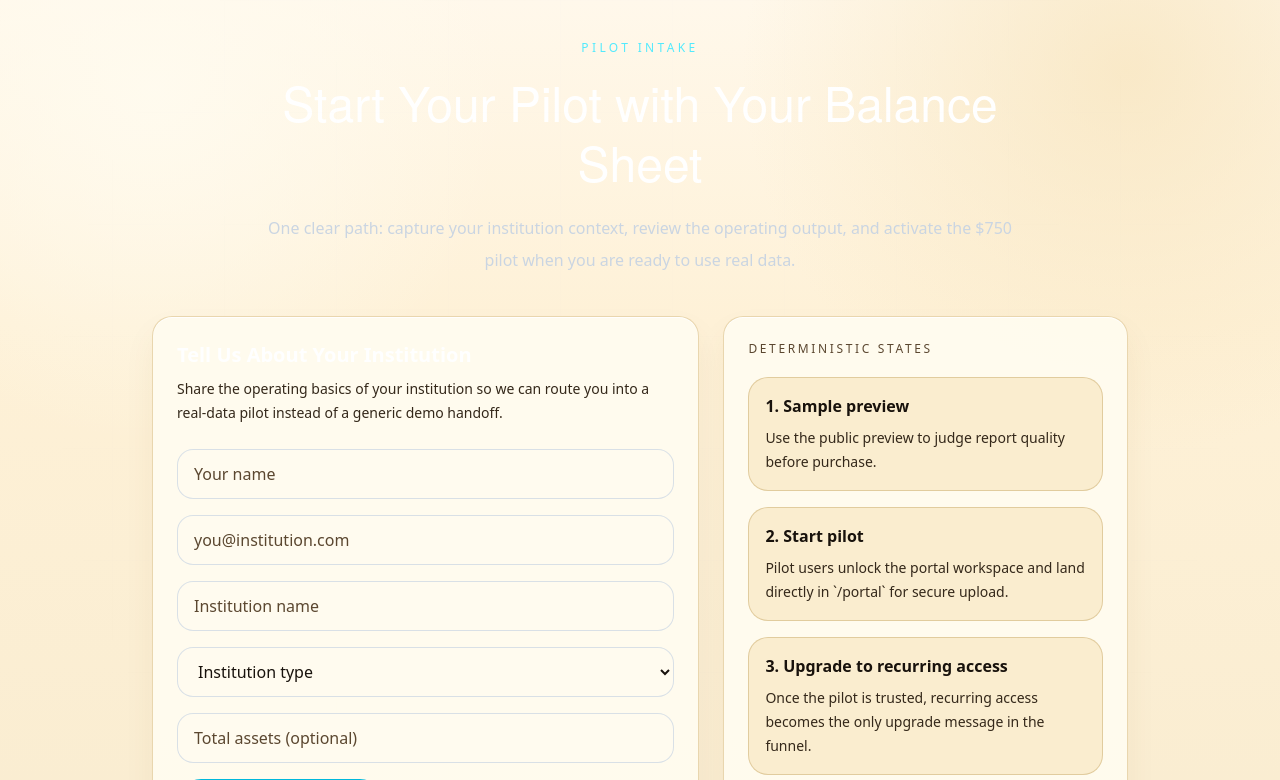
it: GetStartedPage › captures guest intake and shows preview + paid unlock state
Expected: the heading "Start Your Pilot with Your Balance Sheet" is shown, x1=256 y1=72 x2=1024 y2=192
Type "Maria" into the field with placeholder "Your name" at point(426, 474), box x1=177 y1=449 x2=674 y2=499
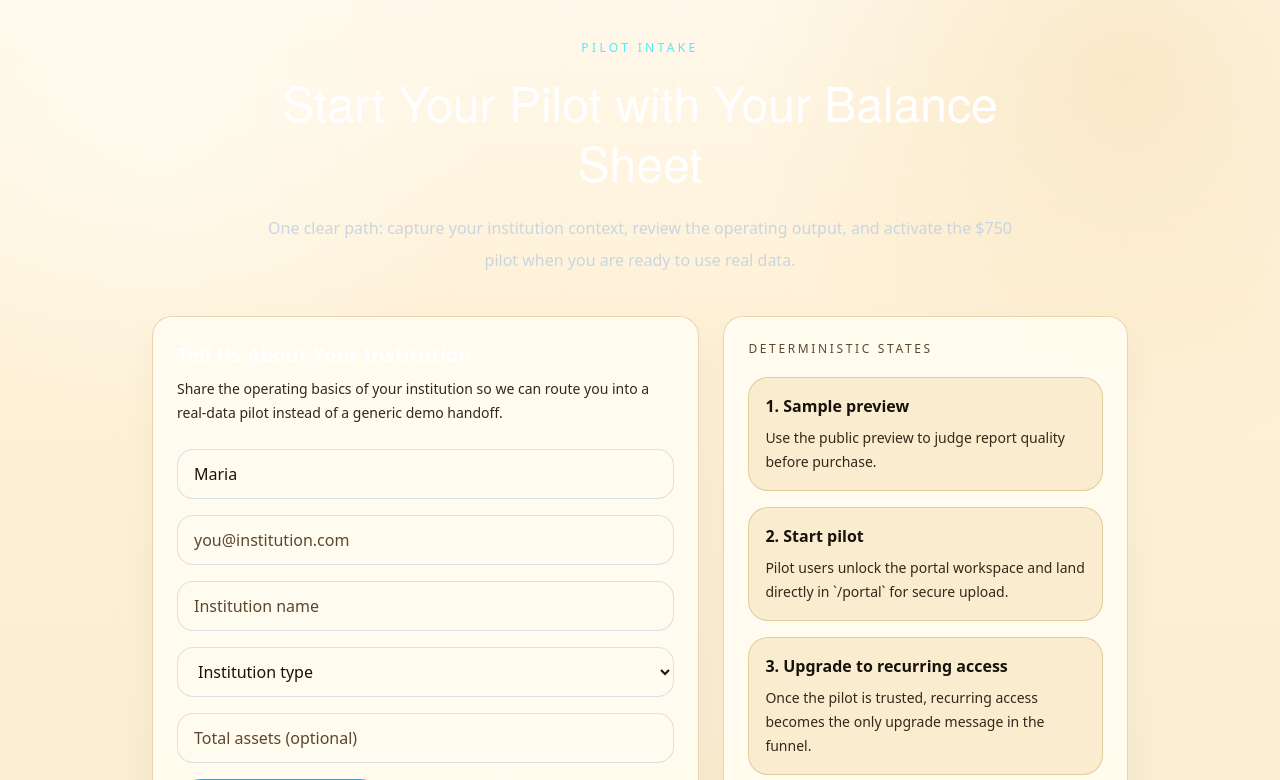
Type "maria@coop.pr" into the field with placeholder "you@institution.com" at point(426, 540), box x1=177 y1=515 x2=674 y2=565
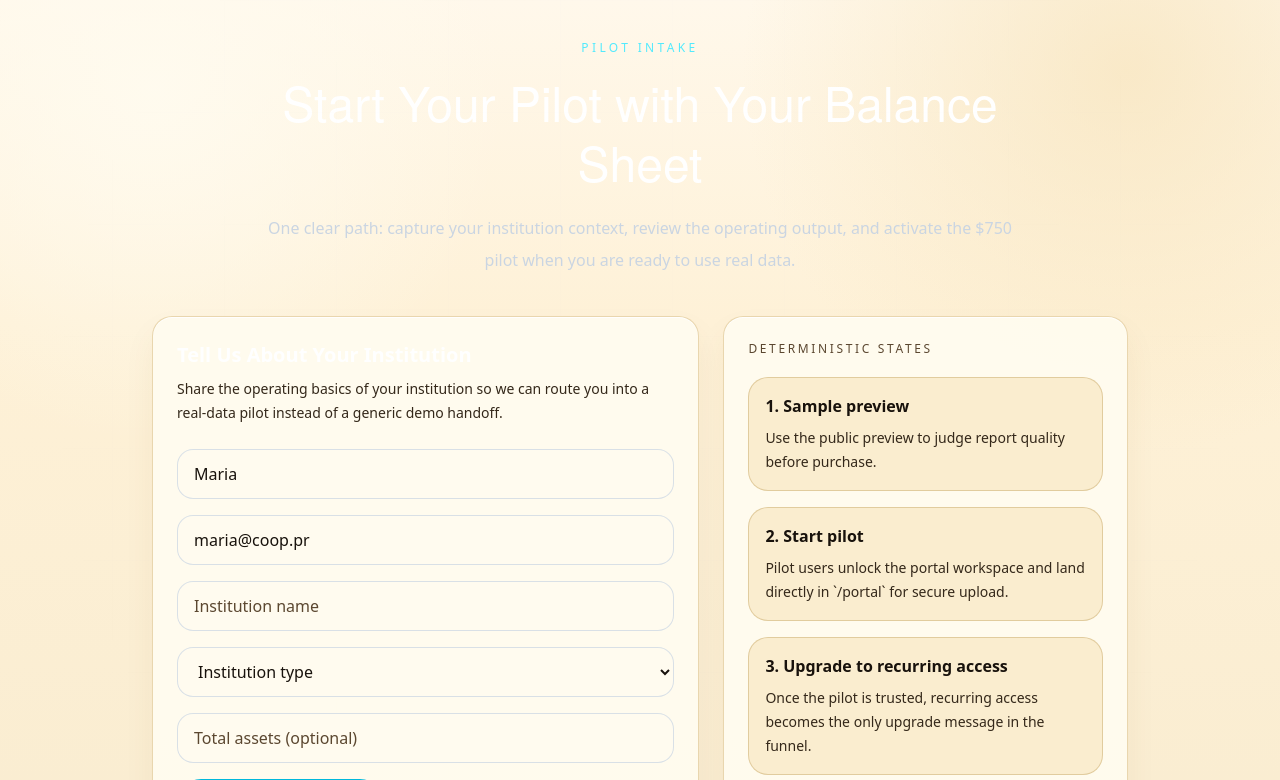
Type "Coop Test" into the field with placeholder "Institution name" at point(426, 606), box x1=177 y1=581 x2=674 y2=631
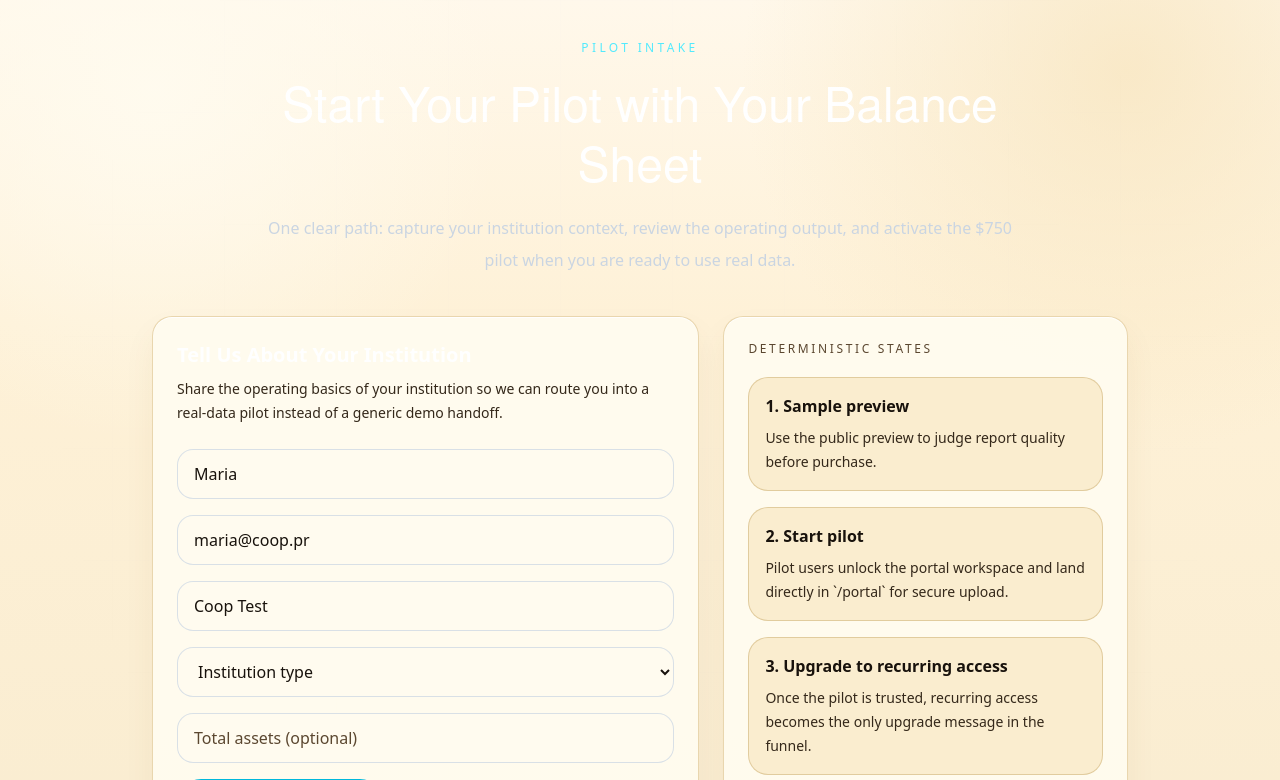
Select "Cooperativa" in the dropdown at point(426, 672), box x1=177 y1=647 x2=674 y2=697
(page scrolled)
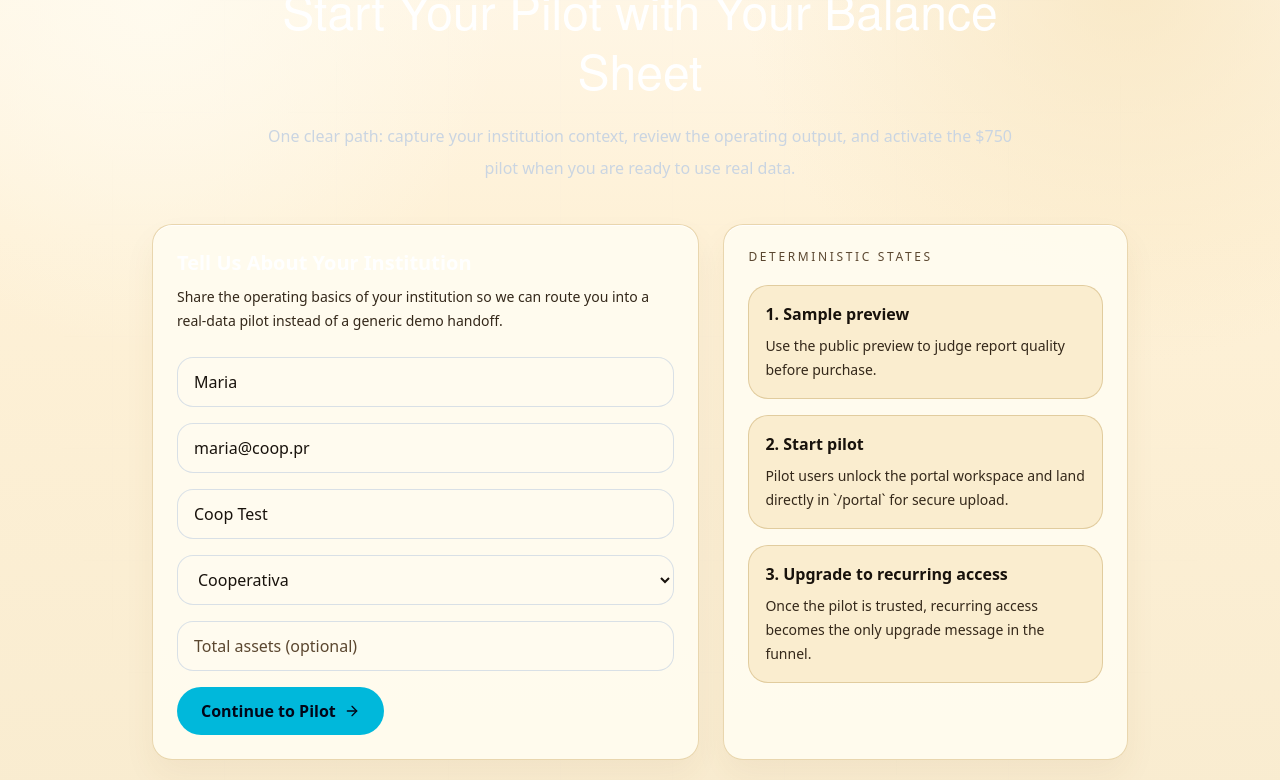
Click the button "Continue to Pilot" at point(280, 711), box x1=177 y1=687 x2=384 y2=735
(page scrolled)
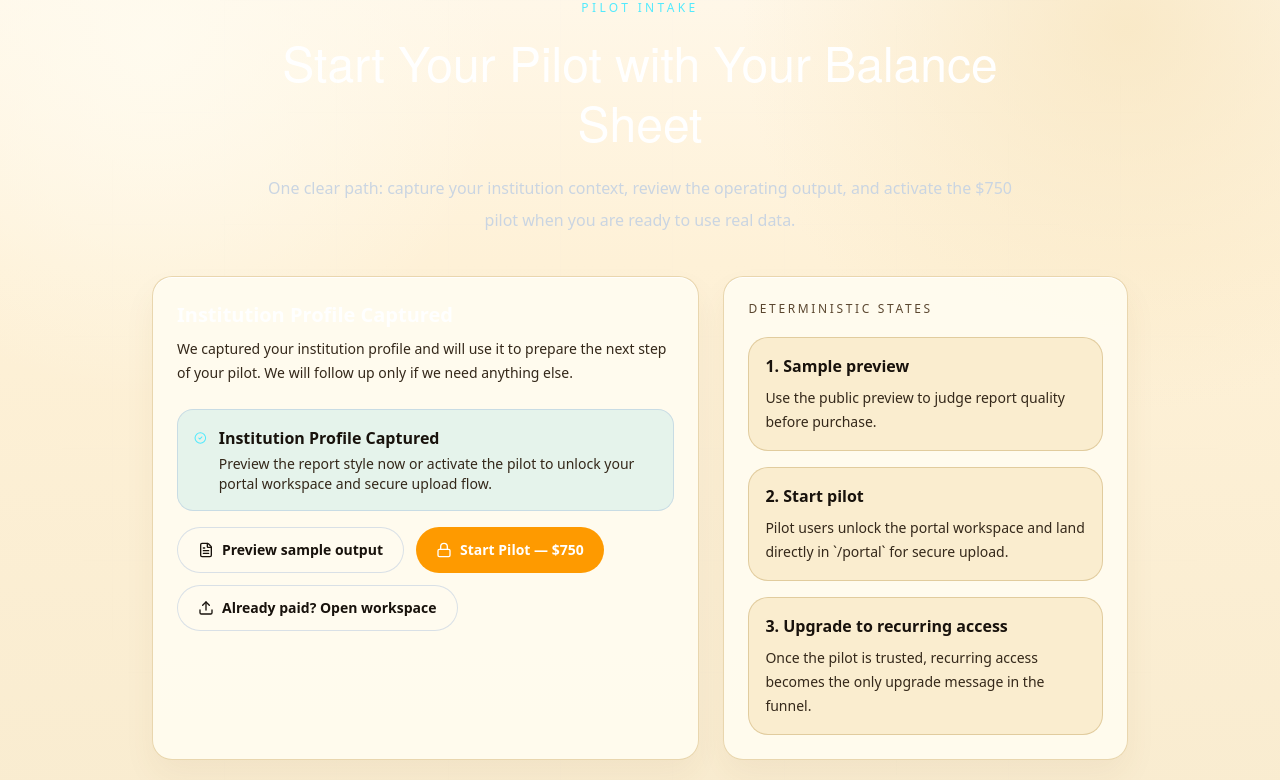
Expected: the button "Start Pilot — $750" is shown, x1=416 y1=527 x2=604 y2=573
